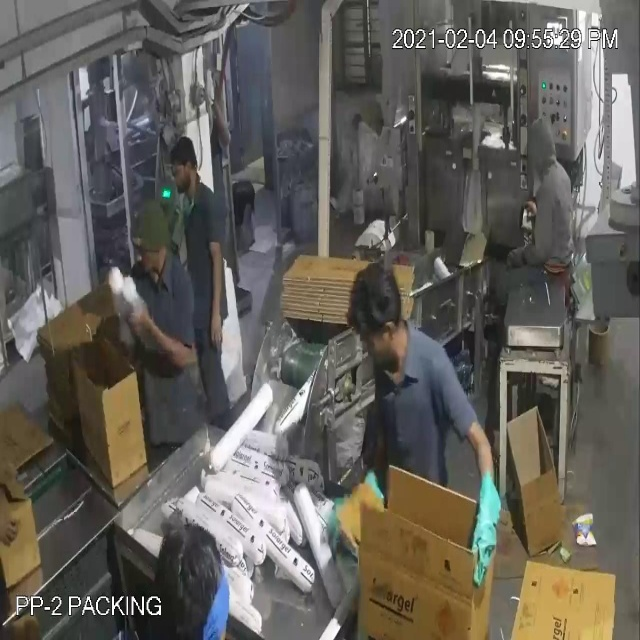Guantes: (463, 468, 507, 581)
Sin_guantes: (122, 299, 197, 377), (199, 234, 240, 366)
